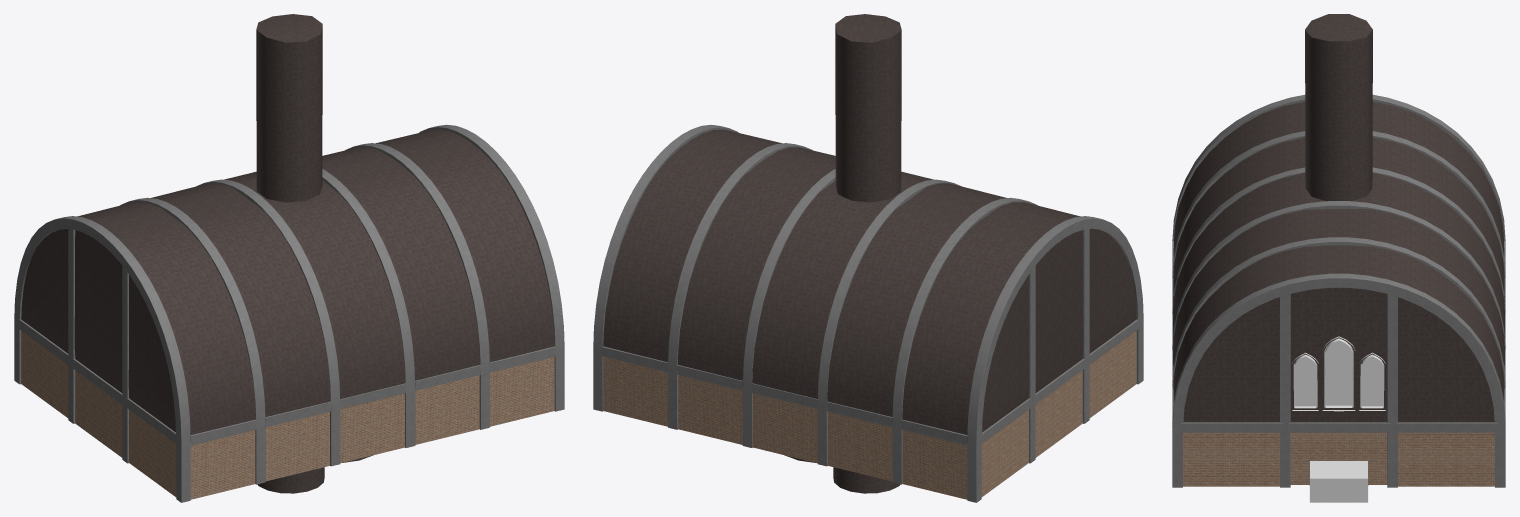
The model's file is Level_Geo_1.fbx.
3 renders of one model, left to right at view 1: azimuth 30°, elevation 25°; view 2: azimuth 150°, elevation 25°; view 3: azimuth 270°, elevation 25°, orthographic.
Parts seen in each view (by area): view 1: CeilingFloorStone_UVd, SteelBeams_UVd, BrickWalls_UVd; view 2: CeilingFloorStone_UVd, SteelBeams_UVd, BrickWalls_UVd; view 3: CeilingFloorStone_UVd, SteelBeams_UVd, BrickWalls_UVd, WindowBig_UVd, EntranceWalls_UVd, WindowFrames_UVd.
Part boxes in pixels (left/top/right/bottom): CeilingFloorStone_UVd: left=21, top=14, right=554, bottom=493; SteelBeams_UVd: left=14, top=124, right=564, bottom=502; BrickWalls_UVd: left=21, top=331, right=554, bottom=499; CeilingFloorStone_UVd: left=603, top=14, right=1136, bottom=493; SteelBeams_UVd: left=593, top=124, right=1143, bottom=502; BrickWalls_UVd: left=603, top=331, right=1136, bottom=499; CeilingFloorStone_UVd: left=1172, top=14, right=1505, bottom=485; SteelBeams_UVd: left=1172, top=94, right=1505, bottom=487; BrickWalls_UVd: left=1183, top=432, right=1494, bottom=486; WindowBig_UVd: left=1293, top=340, right=1384, bottom=407; EntranceWalls_UVd: left=1310, top=461, right=1367, bottom=502; WindowFrames_UVd: left=1292, top=336, right=1385, bottom=411.
Size of what is drawn, in the model's own units: 8872 by 9260 by 6200.
